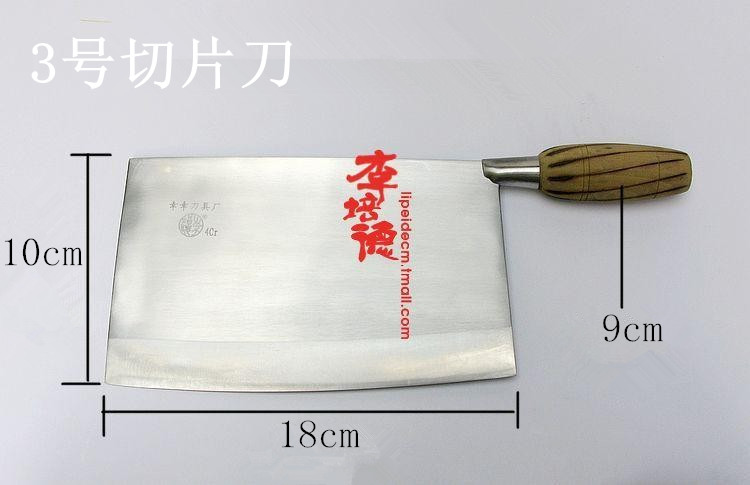knief: (86, 128, 672, 382)
